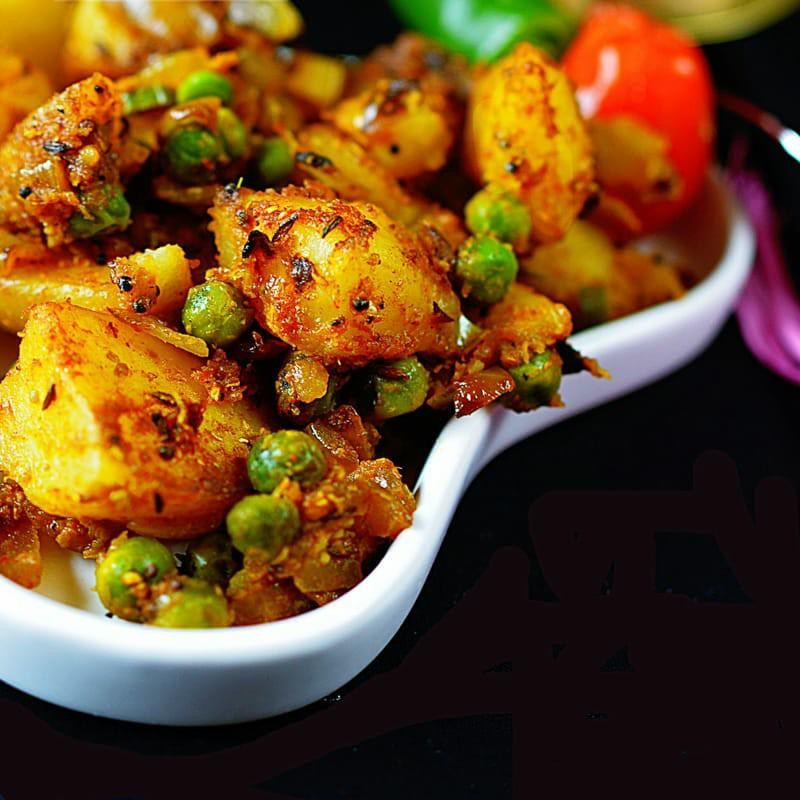AlooMasala: (0, 0, 702, 632)
